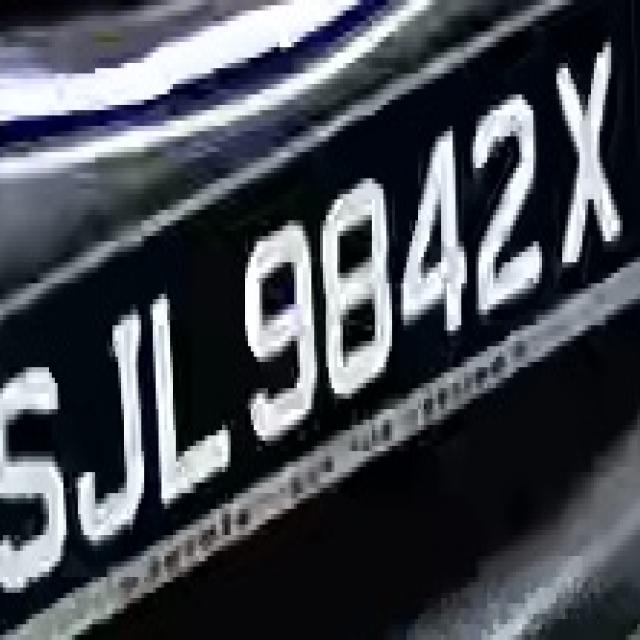2: (462, 105, 556, 330)
4: (386, 110, 470, 362)
8: (320, 173, 409, 425)
9: (236, 230, 320, 462)
J: (75, 309, 144, 566)
L: (150, 283, 233, 514)
S: (9, 331, 69, 604)
X: (550, 32, 628, 278)
